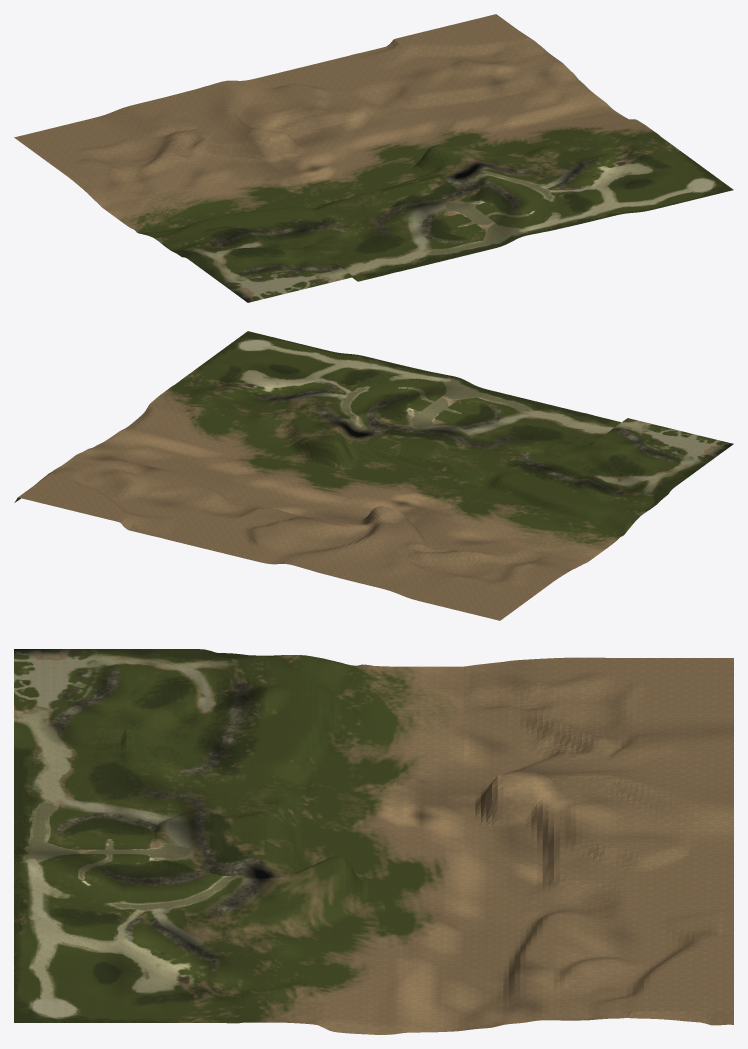
File: texturizadocortado40.fbx
The picture shows the model from 3 angles, top to bottom: view 1: azimuth 30°, elevation 25°; view 2: azimuth 150°, elevation 25°; view 3: azimuth 270°, elevation 25°; orthographic projection. The views are drawn at different scales.
Visible parts, largest first — view 1: no part large enough to name; view 2: no part large enough to name; view 3: Terrain8.451, Terrain8.249, Terrain8.450, Terrain8.275, Terrain8.475, Terrain8.224, Terrain8.002, Terrain8.473, Terrain8.474, Terrain8.623.
Boxes of the visible parts, bbox=[...] form: Terrain8.451: bbox=[489, 786, 517, 824]; Terrain8.249: bbox=[316, 890, 345, 922]; Terrain8.450: bbox=[518, 789, 546, 824]; Terrain8.275: bbox=[316, 871, 345, 903]; Terrain8.475: bbox=[546, 777, 575, 800]; Terrain8.224: bbox=[287, 907, 316, 932]; Terrain8.002: bbox=[690, 1002, 719, 1025]; Terrain8.473: bbox=[604, 779, 633, 800]; Terrain8.474: bbox=[575, 779, 604, 800]; Terrain8.623: bbox=[28, 722, 57, 742].
Bounding box in the file's own units: 120000 × 5088 × 100000.
